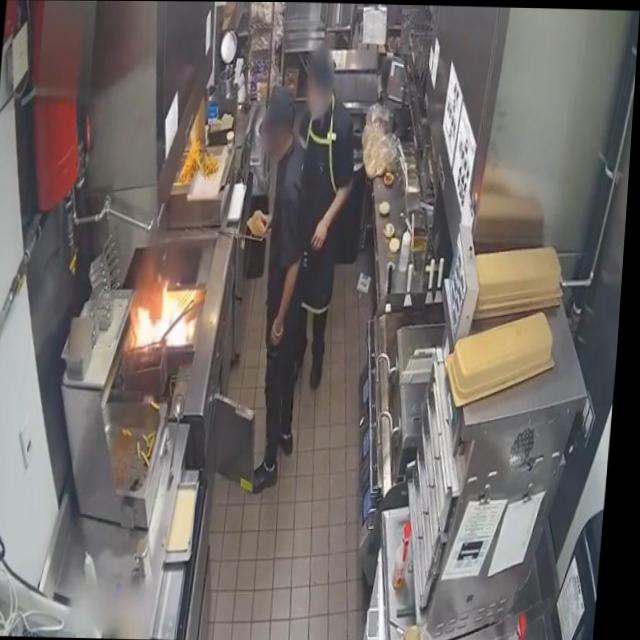fire: (136, 274, 200, 347)
